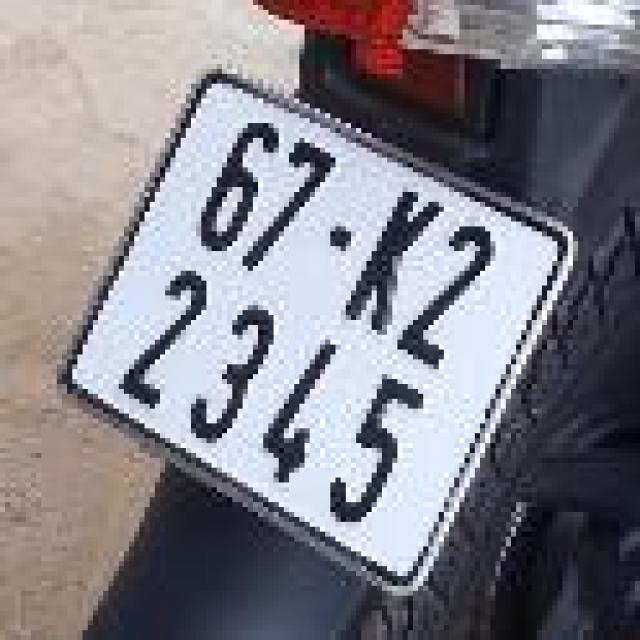2: (386, 208, 526, 383), (109, 253, 234, 419)
3: (178, 288, 297, 461)
4: (243, 321, 371, 496)
5: (310, 361, 444, 538)
6: (178, 106, 299, 270)
7: (232, 122, 364, 292)
K: (323, 175, 467, 348)
